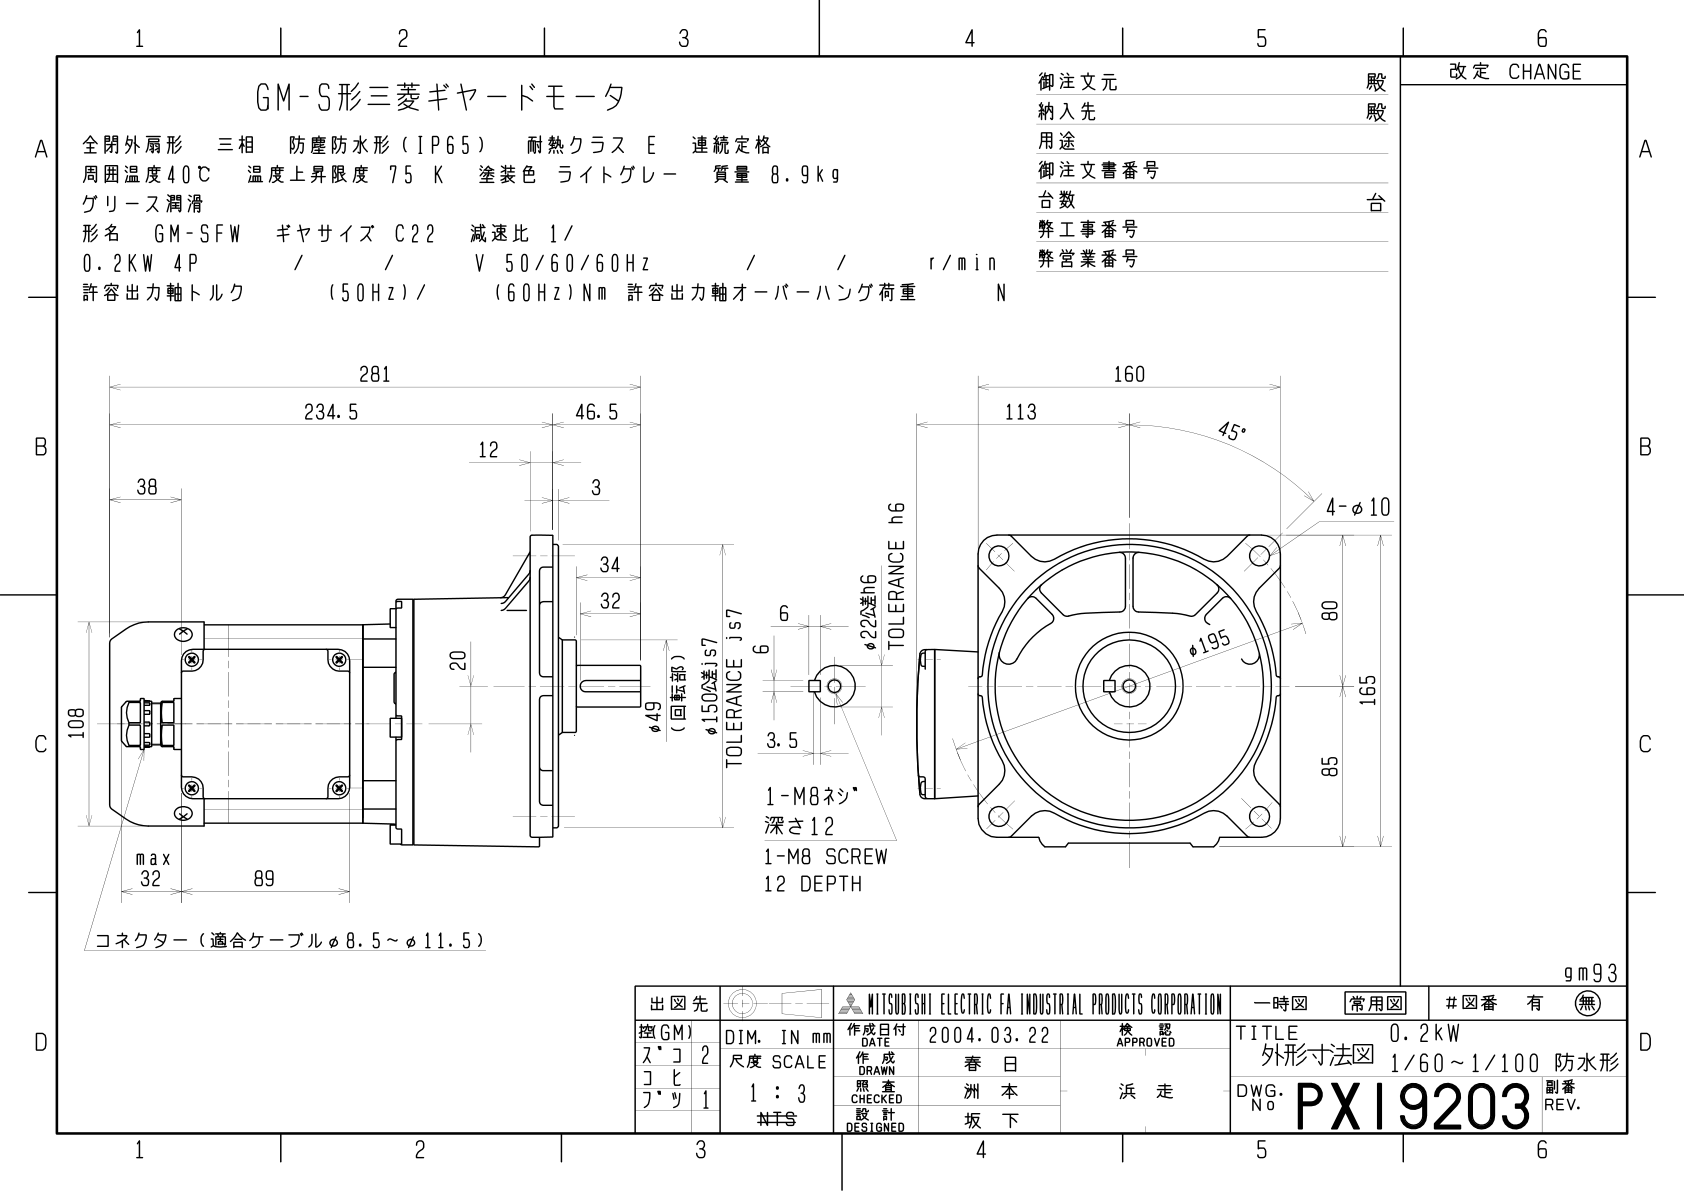GM_S_IP65＿三相_フランジ: (1, 1, 1669, 1178)
